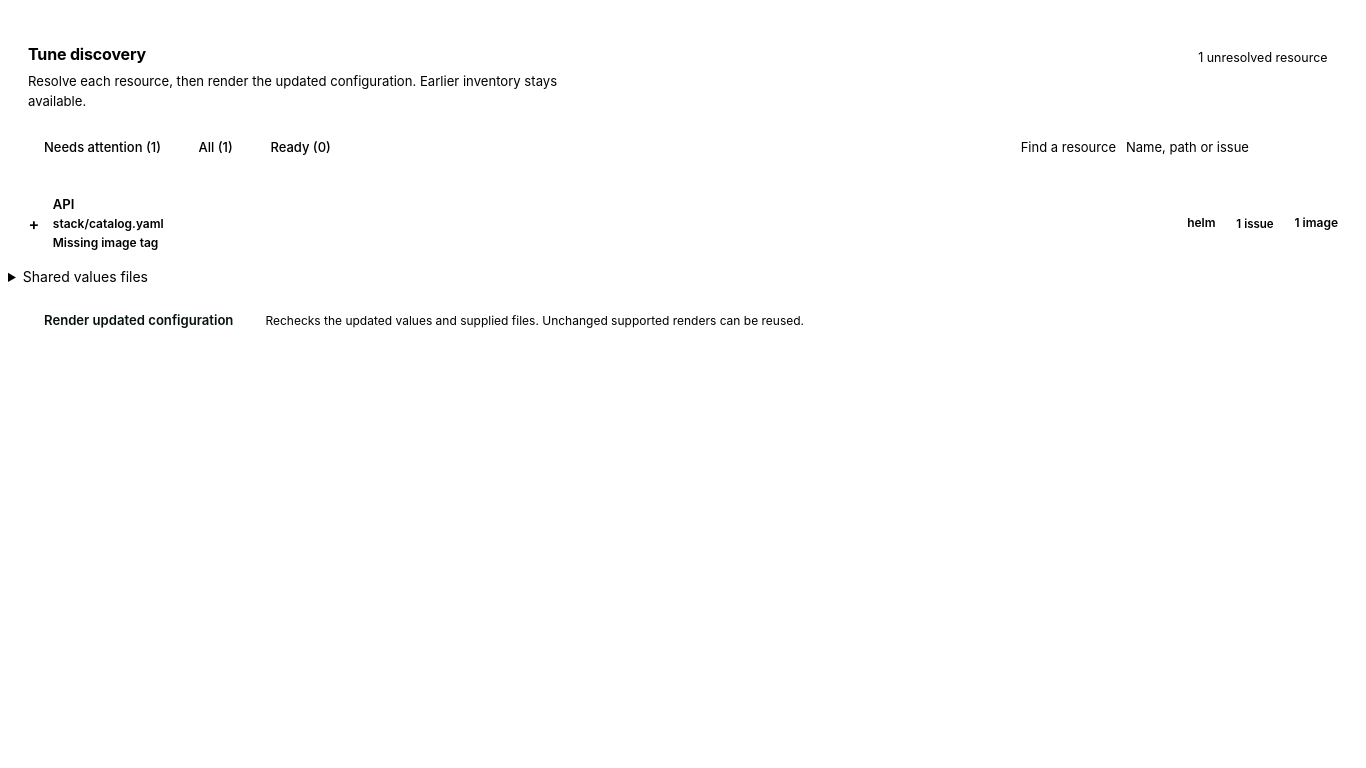
honors an explicit empty override and file list instead of restoring inventory selections
Click the button with aria-label "Tune API": (108, 224) x1=8 y1=182 x2=1358 y2=266
(page scrolled)
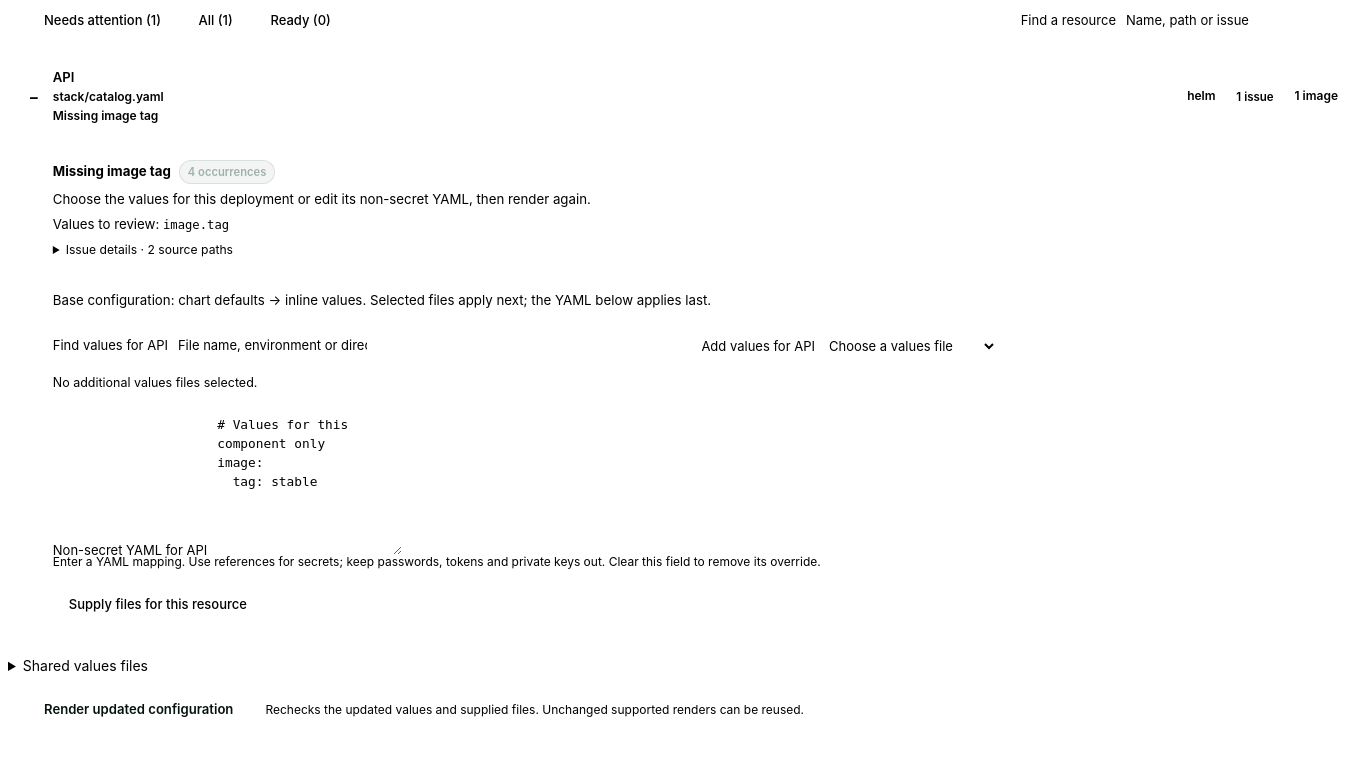
expect the button "Render updated configuration" is enabled: met, box x1=28 y1=692 x2=249 y2=728
expect the text box labelled "Non-secret YAML for API" is empty: met, box x1=207 y1=409 x2=402 y2=555
